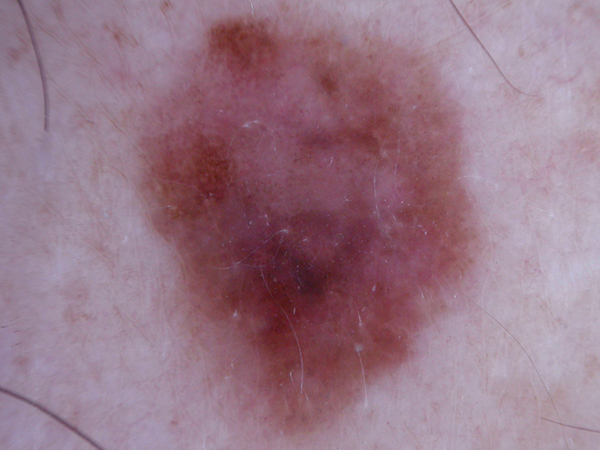Detected Lesion: (134, 14, 479, 439)
